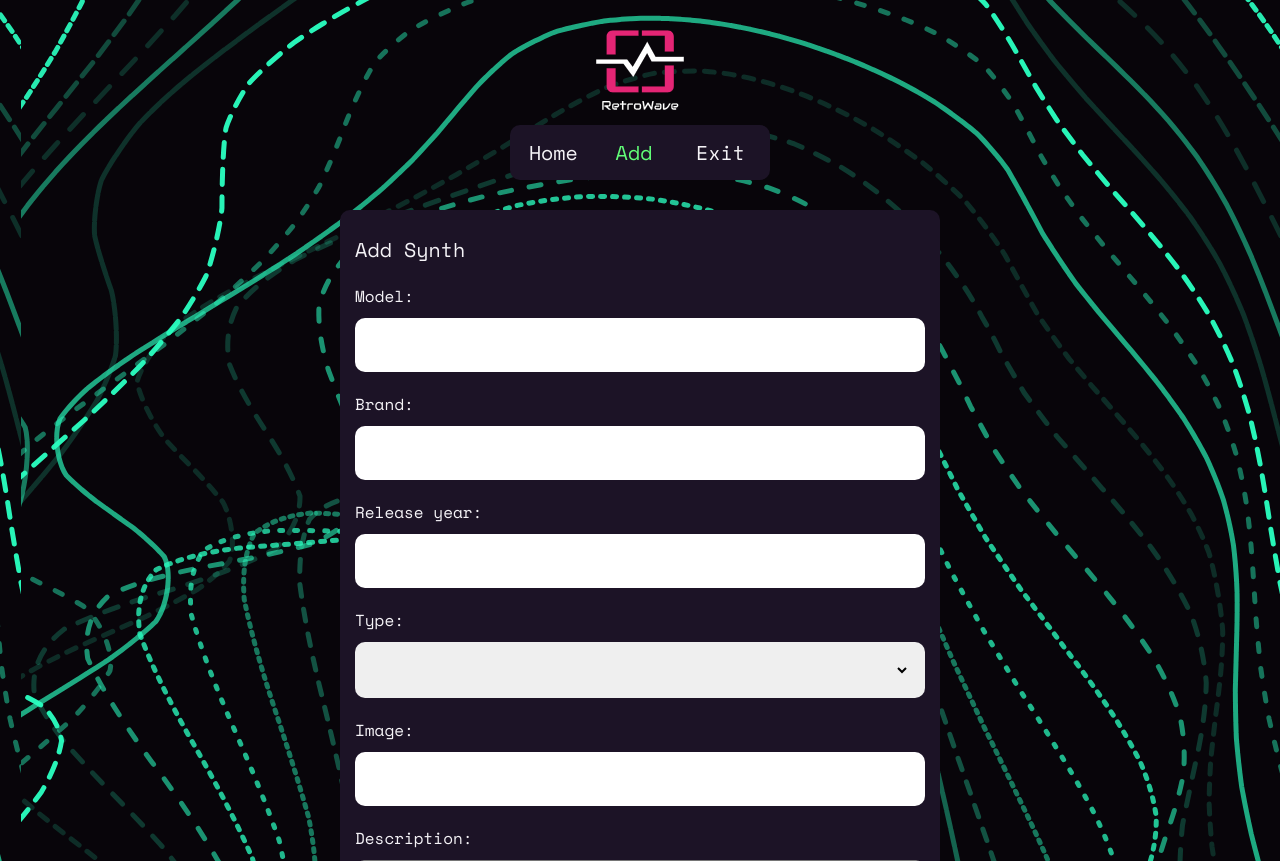
Test: Given a AddSynthPage page › When its rendered and the user try to add a synth but it rejects › Then it should show a modal with the message 'Error adding synth'
Type "test" into the field labelled "Model:" at [640, 345], box [355, 318, 925, 372]
Type "test" into the field labelled "Brand:" at [640, 453], box [355, 426, 925, 480]
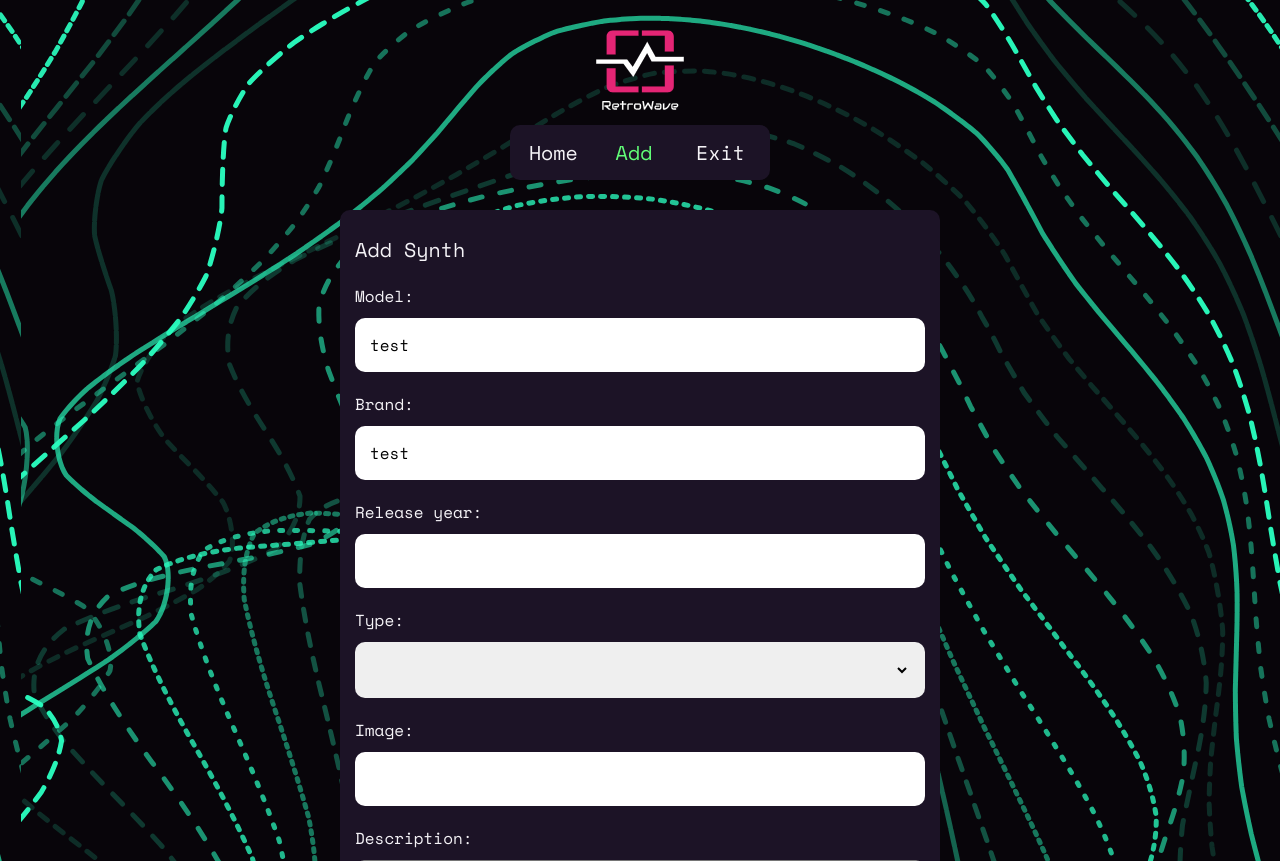
Type "test" into the field labelled "Release year:" at [640, 561], box [355, 534, 925, 588]
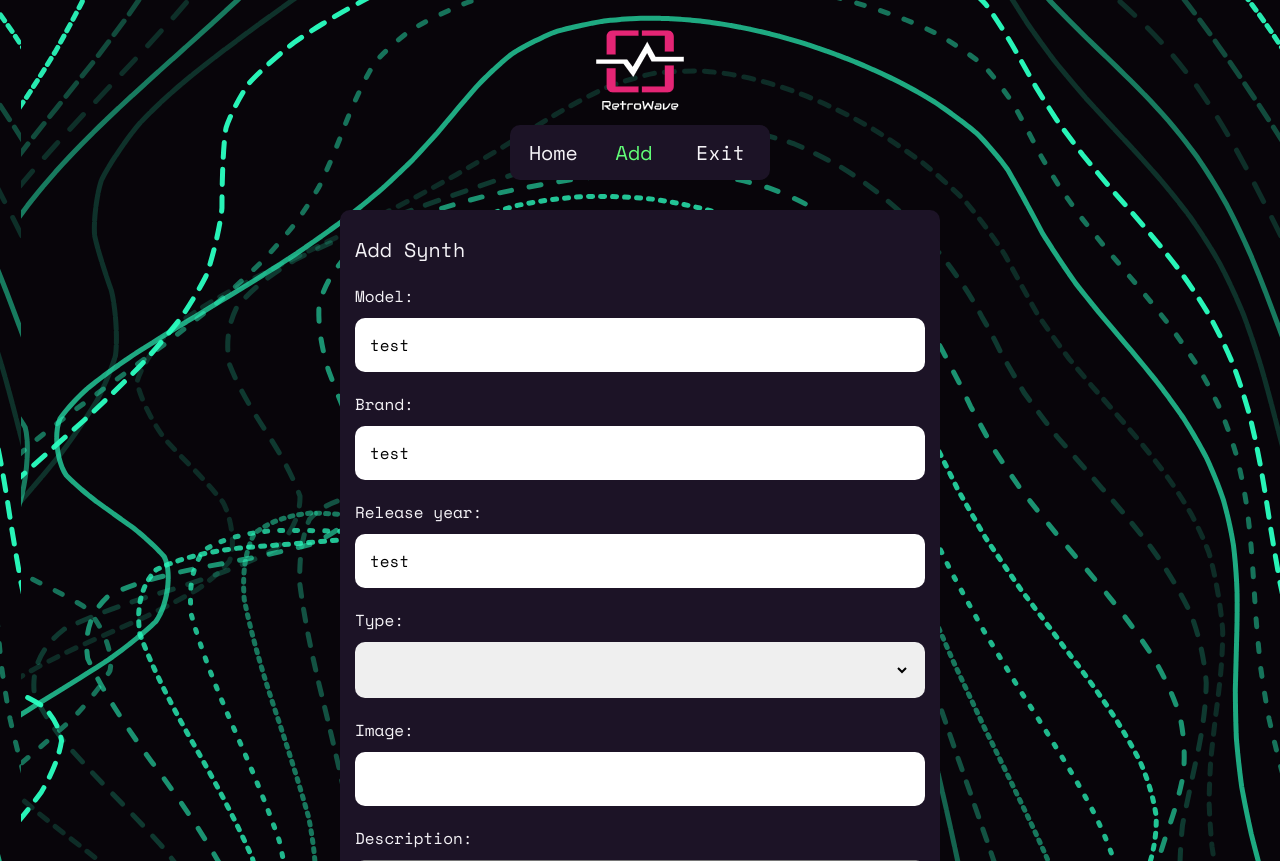
Type "test" into the field labelled "Image:" at [640, 779], box [355, 752, 925, 806]
(page scrolled)
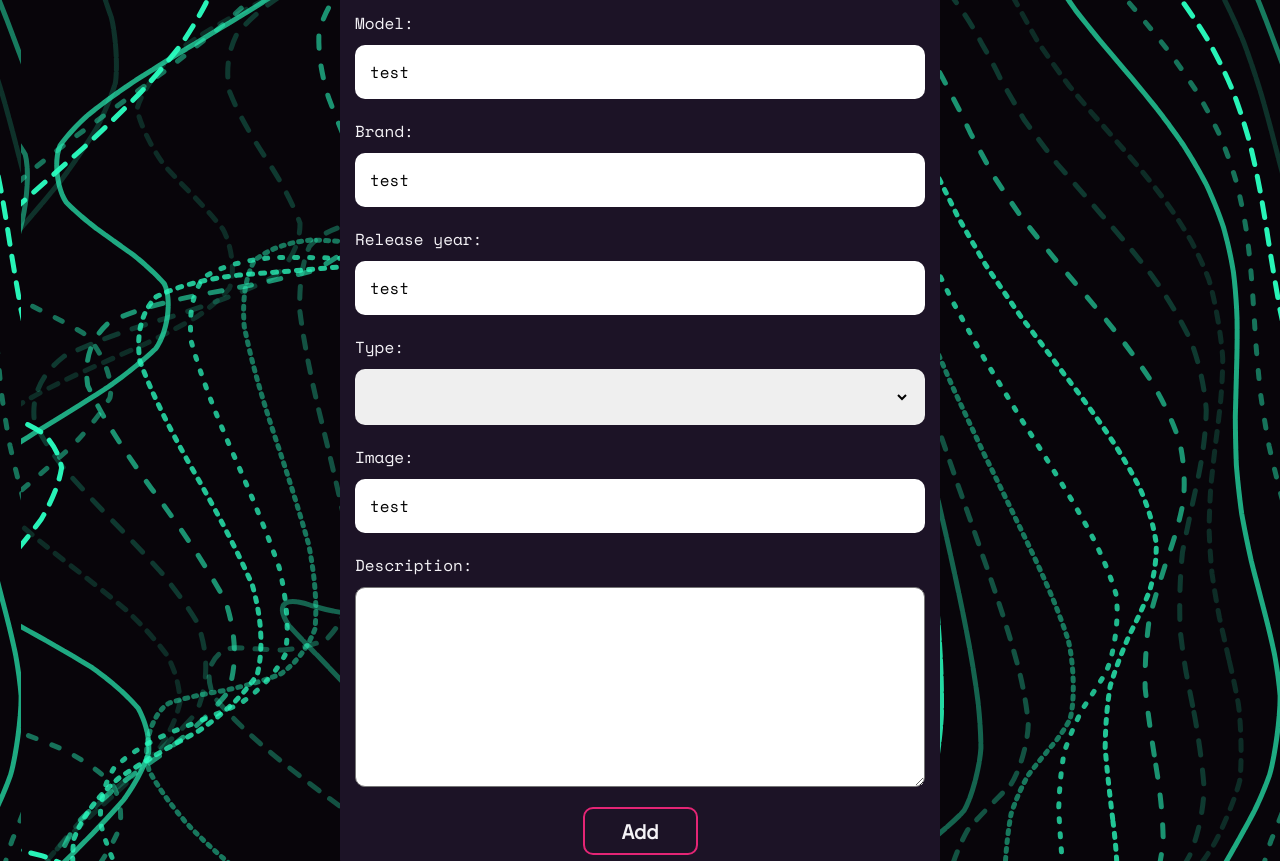
Type "test" into the text box labelled "Description:" at [640, 687], box [355, 587, 925, 787]
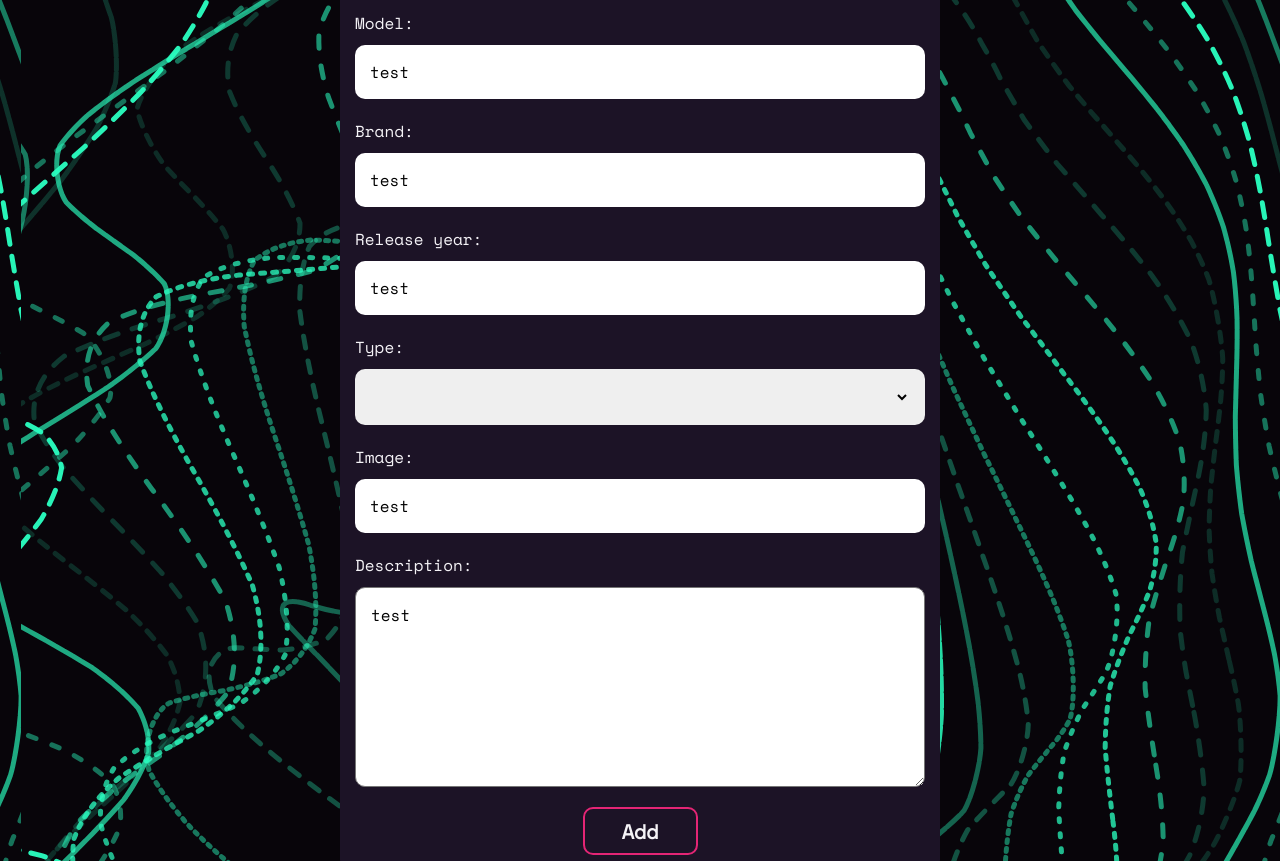
Select "Analog" in the dropdown labelled "Type:" at [640, 397], box [355, 369, 925, 425]
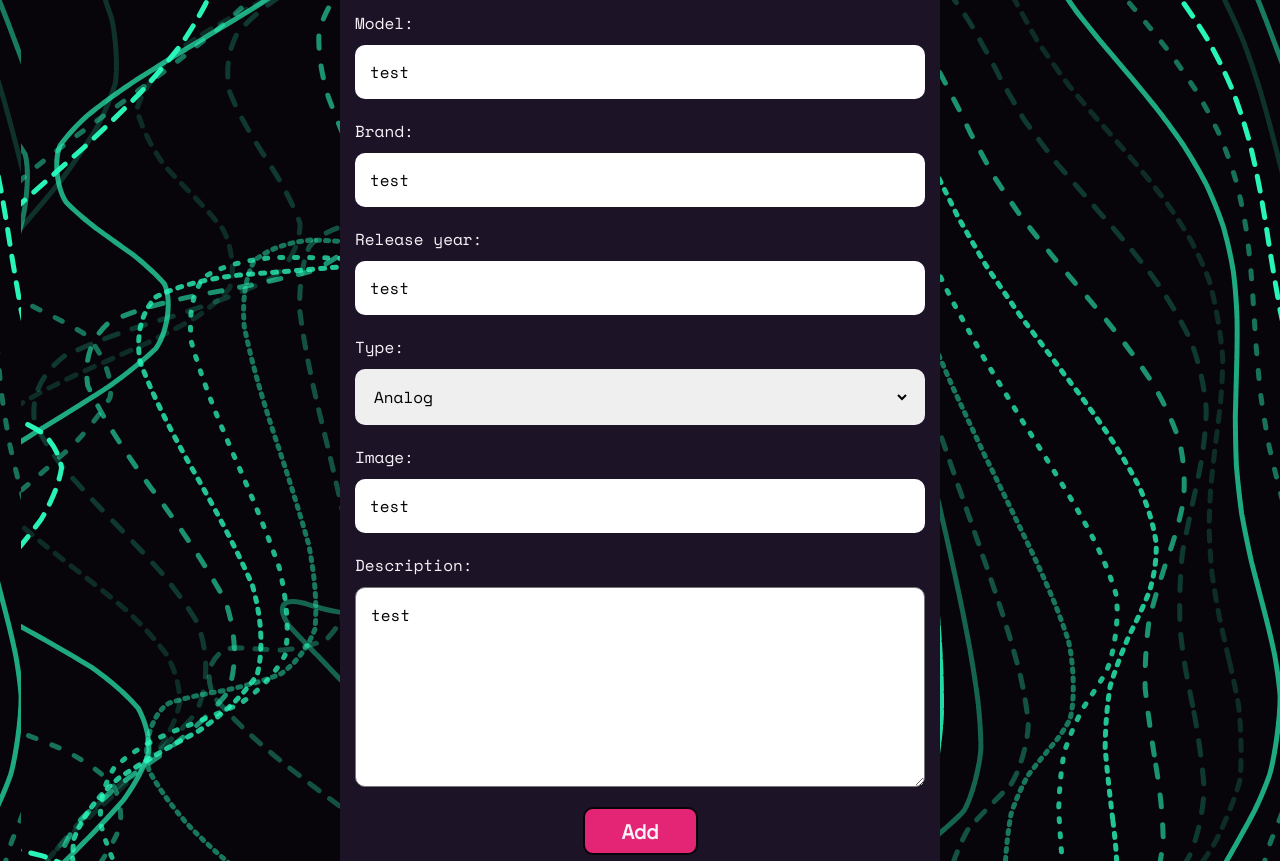
Click the button "Add" at [640, 831], box [582, 807, 698, 855]
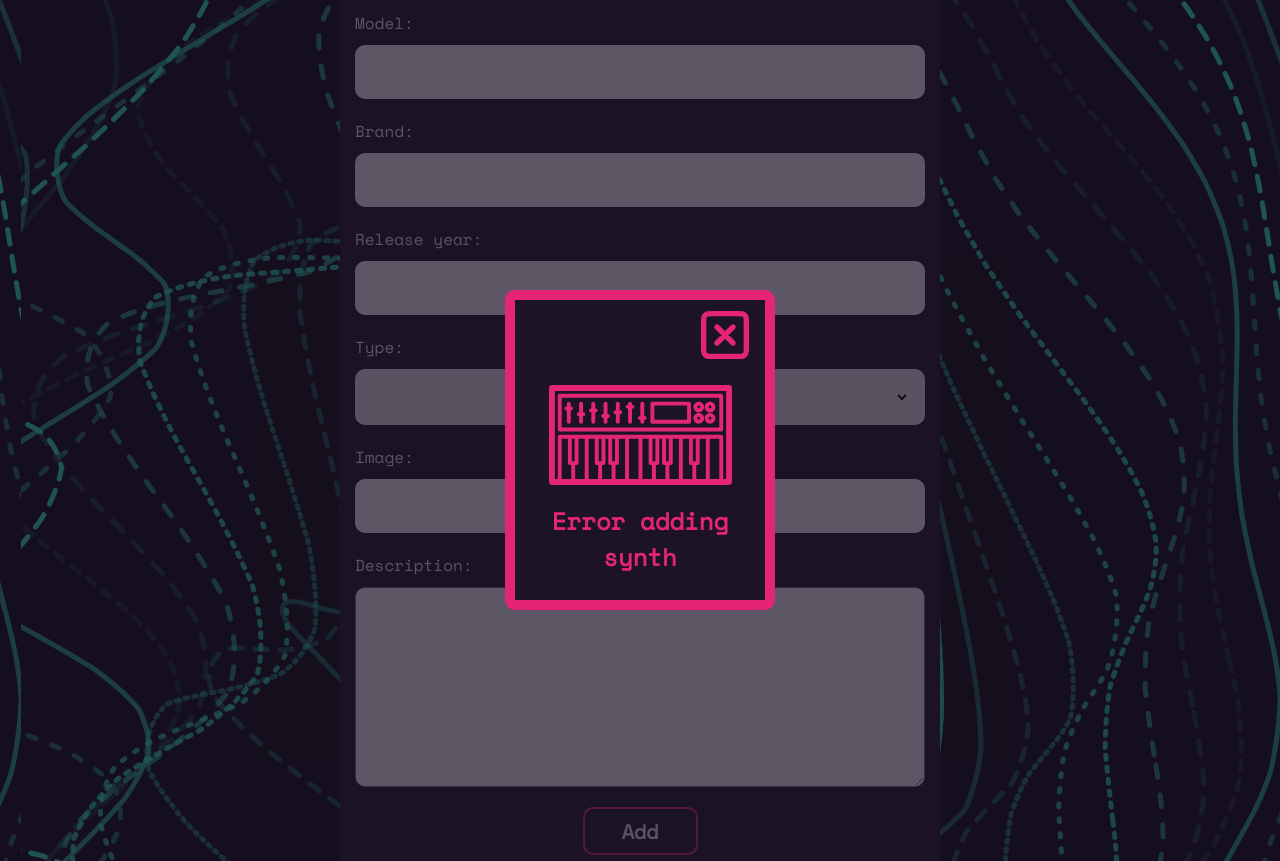
Expected: the text "Error adding synth" is shown, [552, 503, 728, 575]
